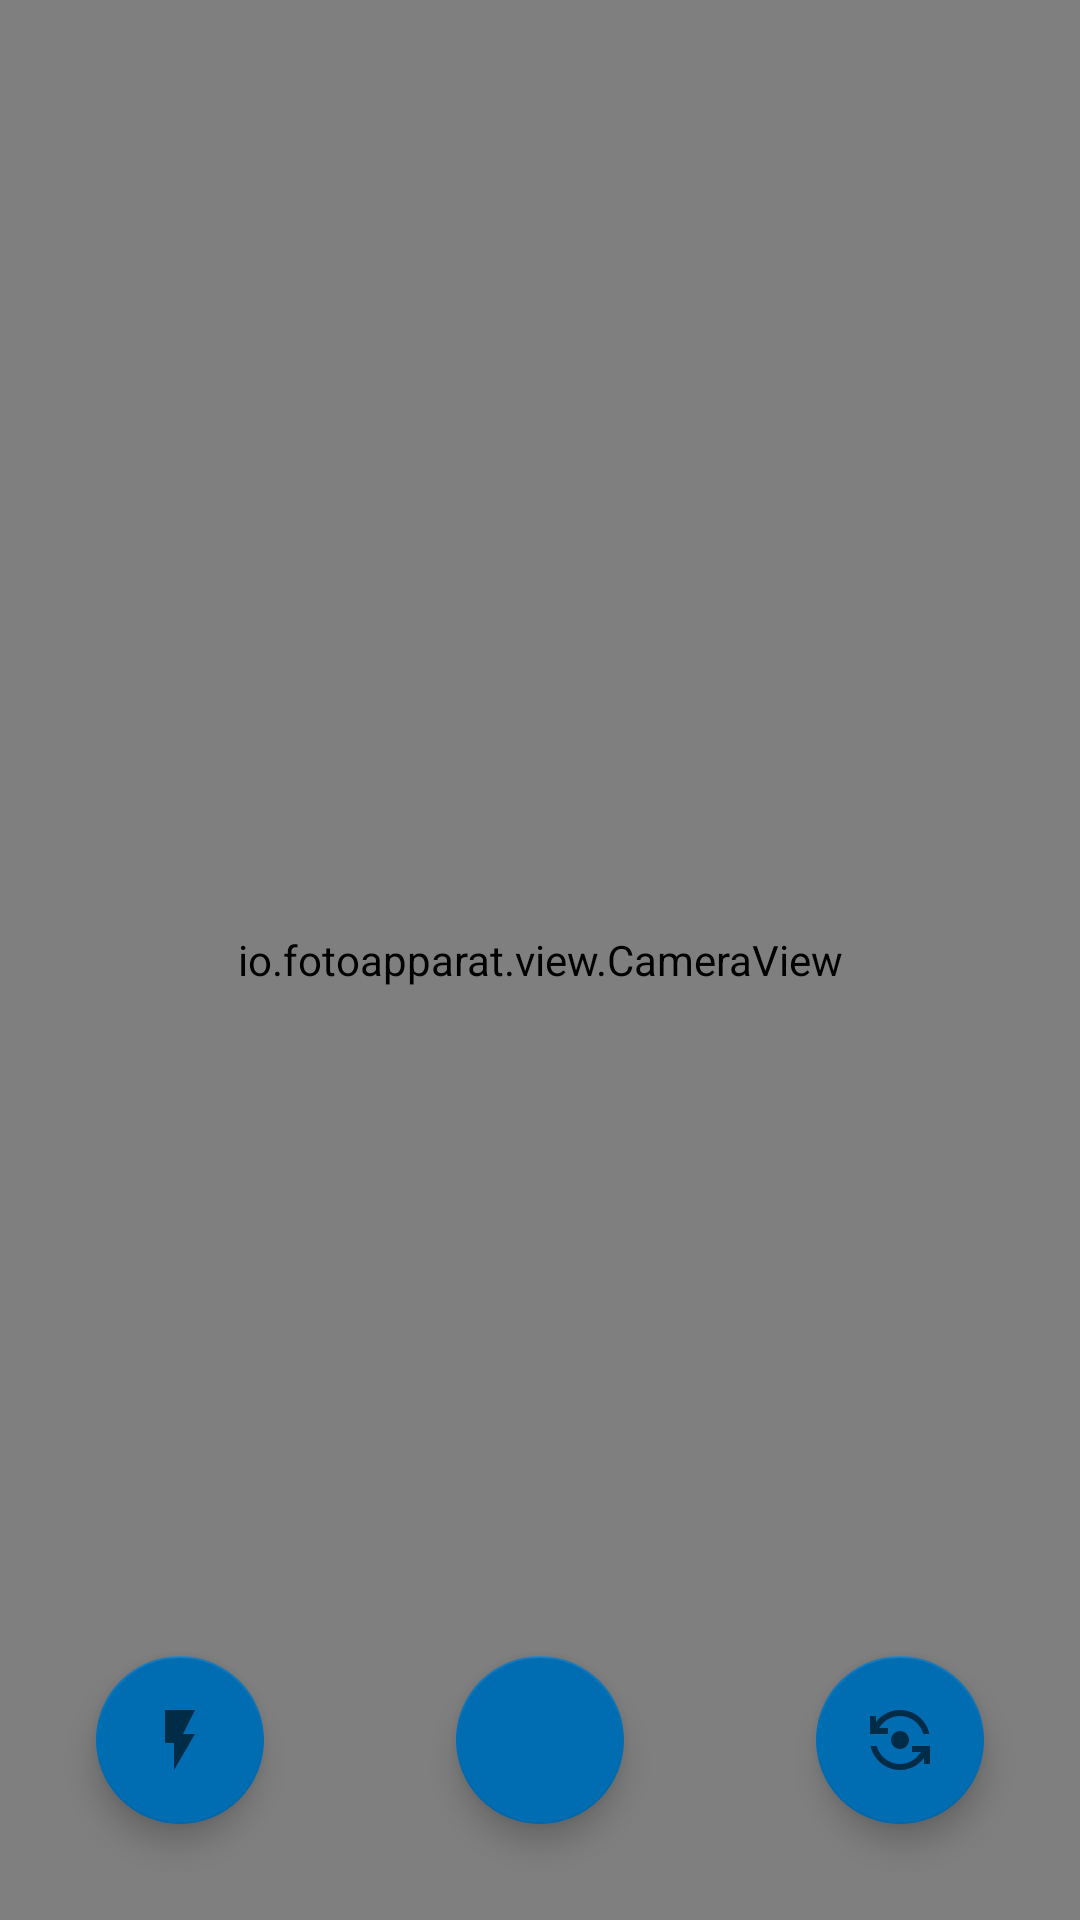

Icon click points for this 1080px×1920px phone screenshot, format (x,y):
flash: (180,1740)
switch camera: (900,1740)
